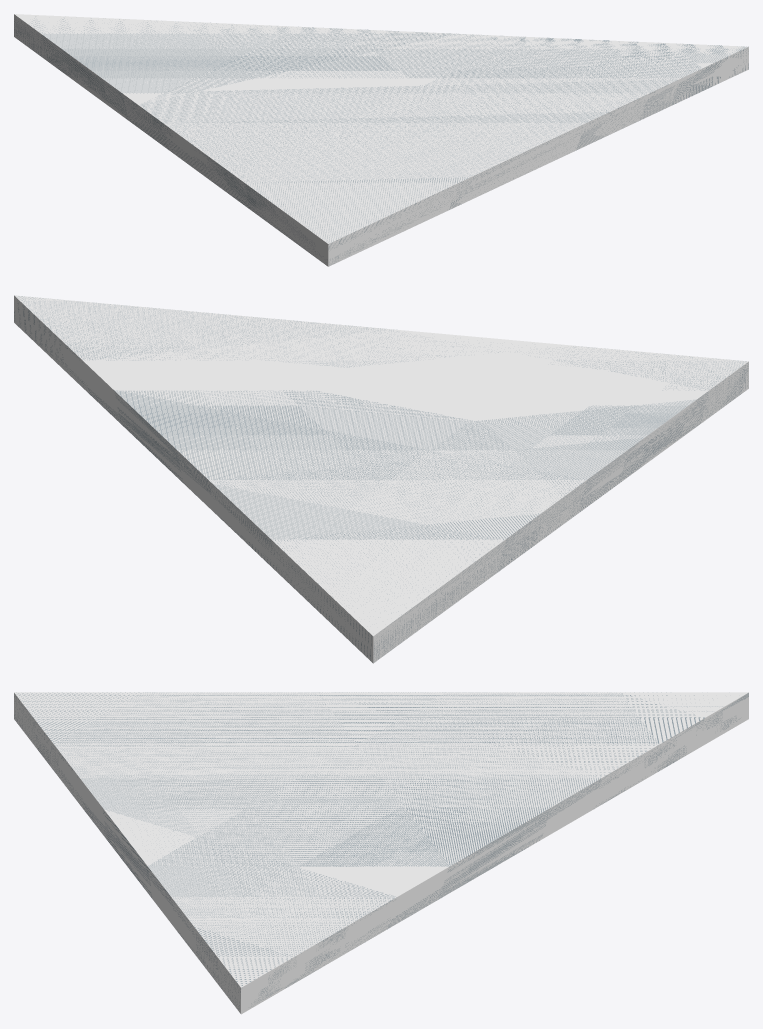
File: triangle 72 deg.fbx
3 views of the same model, one above another, from view 1: azimuth 30°, elevation 25°; view 2: azimuth 150°, elevation 25°; view 3: azimuth 270°, elevation 25° (orthographic). The views are drawn at different scales.
Visible parts, largest first — view 1: Model; view 2: Model; view 3: Model.
Boxes of the visible parts, x1,y1,x2,y2 form: Model: [14, 14, 748, 266]; Model: [14, 295, 748, 663]; Model: [14, 692, 748, 1014].
Size of the model in its own units: 4.76 by 0.2 by 5.
